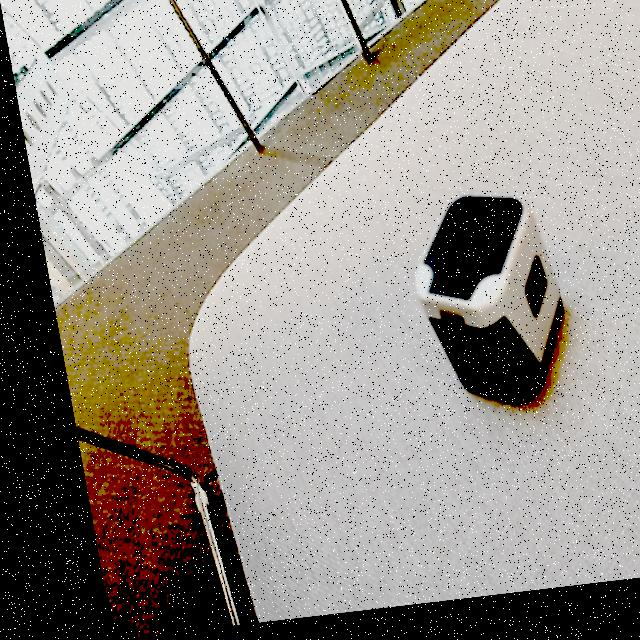adapter: (389, 193, 562, 422)
